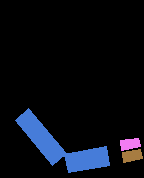parkingspot: (15, 108, 66, 165), (64, 146, 109, 172), (122, 149, 142, 162), (120, 138, 140, 150)
